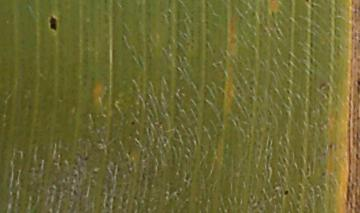tarspot: (46, 14, 59, 33), (327, 142, 335, 150), (319, 171, 326, 178), (129, 119, 135, 127), (355, 153, 360, 162), (283, 189, 289, 195), (356, 78, 360, 85), (304, 1, 310, 4)
